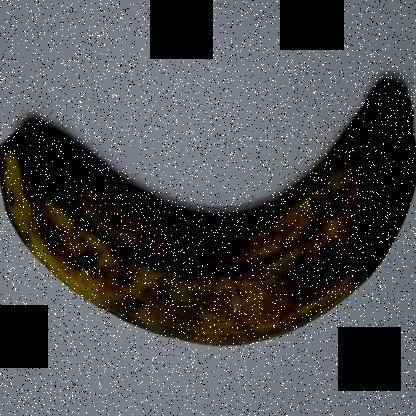overripe: (15, 76, 415, 361)
